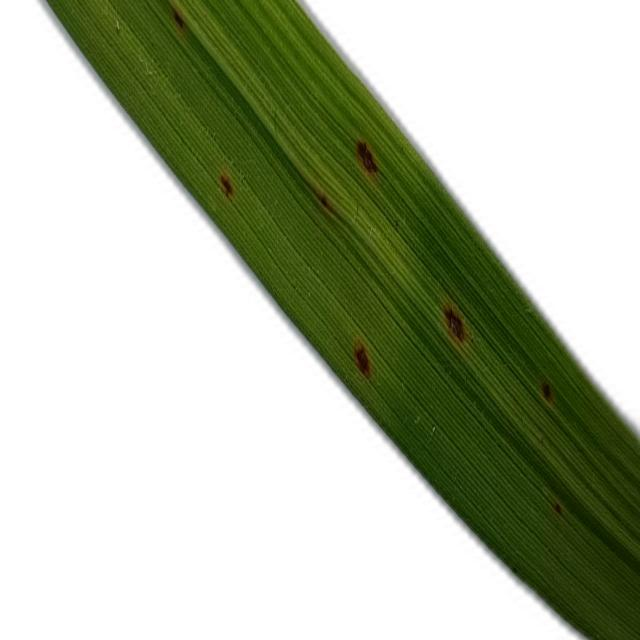LEAF BLAST: (444, 303, 465, 344), (356, 137, 378, 176), (354, 343, 371, 380)
